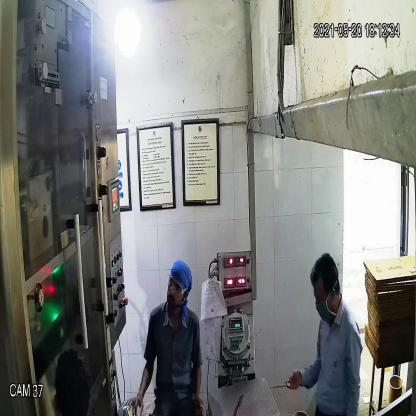goggles: (164, 274, 188, 297)
